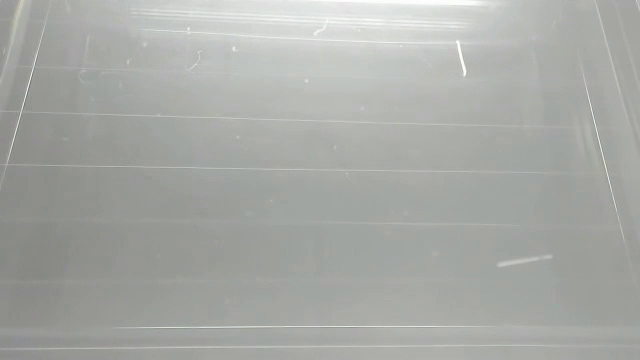alpha: (493, 251, 556, 272), (452, 36, 472, 80)
